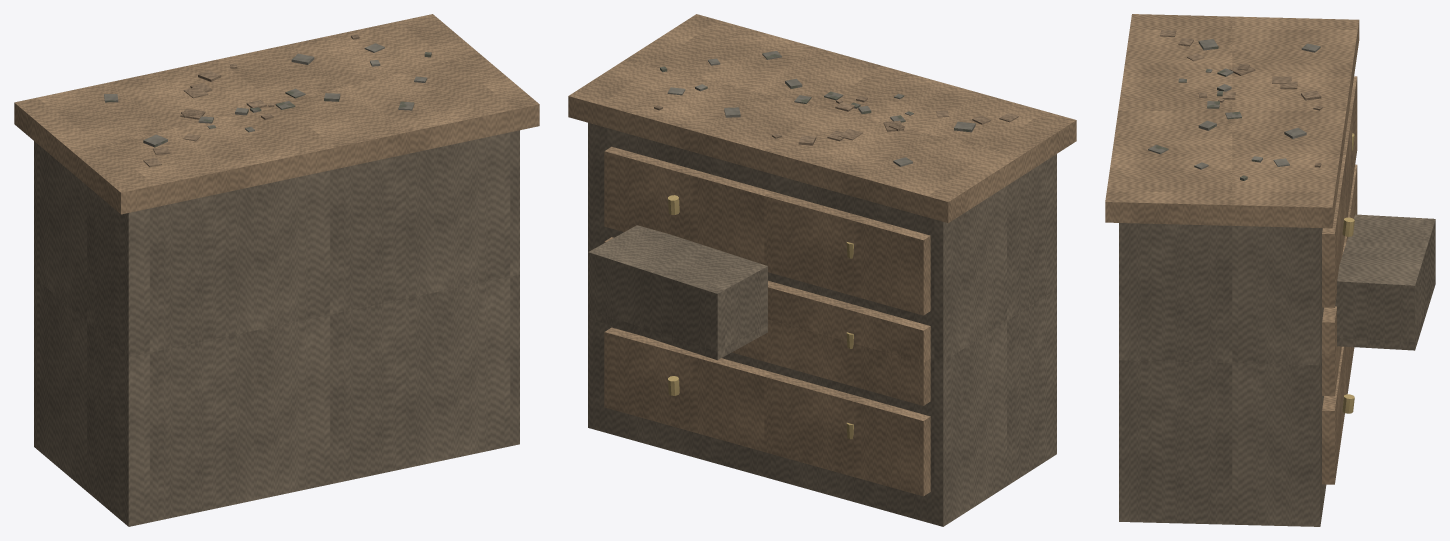
Rendered from tilted_wooden_dresser.glb.
The picture shows the model from 3 angles, left to right: view 1: azimuth 30°, elevation 25°; view 2: azimuth 150°, elevation 25°; view 3: azimuth 270°, elevation 25°; orthographic projection. The views are drawn at different scales.
Visible parts, largest first — view 1: InteriorPropGeometry; view 2: InteriorPropGeometry; view 3: InteriorPropGeometry.
Part boxes in pixels (box(x1,y1,x2,y2)): InteriorPropGeometry: box(14, 14, 539, 526); InteriorPropGeometry: box(568, 14, 1076, 526); InteriorPropGeometry: box(1105, 14, 1435, 526).
Bounding box in the file's own units: 1.41 × 1.13 × 1.02.
5 materials, 5 textured.
